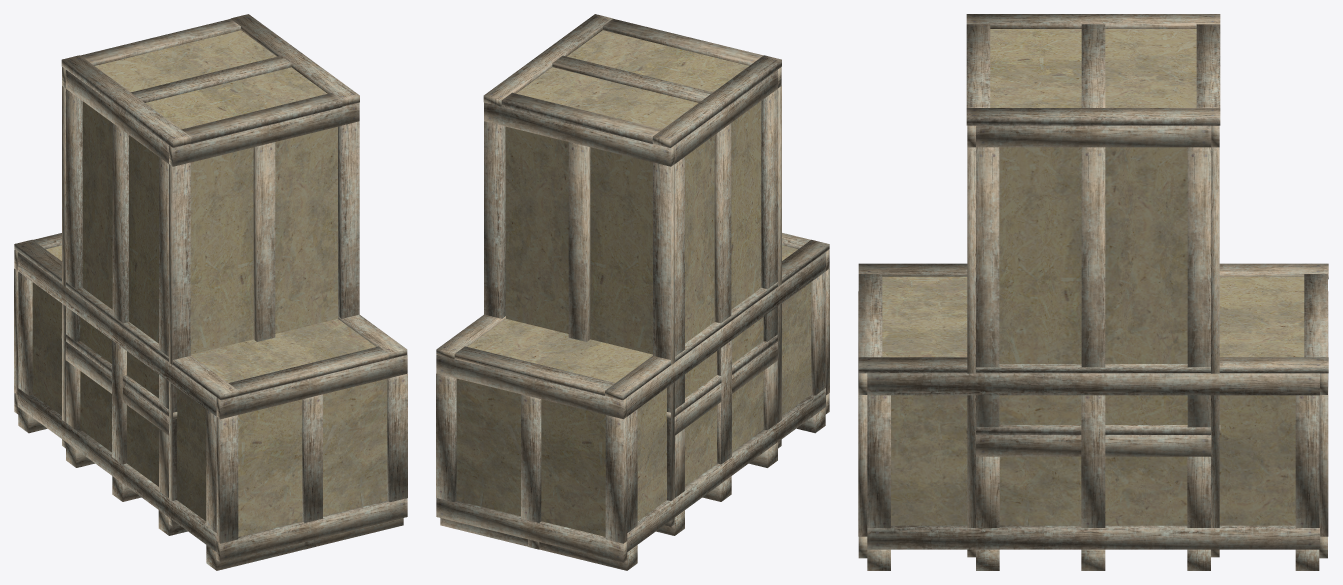
The model's file is crates.glb.
3 renders of one model, left to right at view 1: azimuth 30°, elevation 25°; view 2: azimuth 150°, elevation 25°; view 3: azimuth 270°, elevation 25°, orthographic. The views are drawn at different scales.
Visible parts, largest first — view 1: Crate_Tall_Old, Crate_Large_Old, Crate_Small_Old; view 2: Crate_Tall_Old, Crate_Large_Old, Crate_Small_Old; view 3: Crate_Large_Old, Crate_Tall_Old, Crate_Small_Old.
Part boxes in pixels (x1,y1,x2,y2): Crate_Tall_Old: [61, 14, 359, 535]; Crate_Large_Old: [14, 233, 407, 570]; Crate_Small_Old: [61, 331, 177, 535]; Crate_Tall_Old: [483, 14, 781, 535]; Crate_Large_Old: [436, 233, 829, 570]; Crate_Small_Old: [656, 334, 781, 535]; Crate_Large_Old: [858, 263, 1328, 570]; Crate_Tall_Old: [966, 14, 1220, 570]; Crate_Small_Old: [966, 425, 1220, 570].
Bounding box in the file's own units: 0.765 × 1.55 × 1.46.
2 materials, 2 textured.
